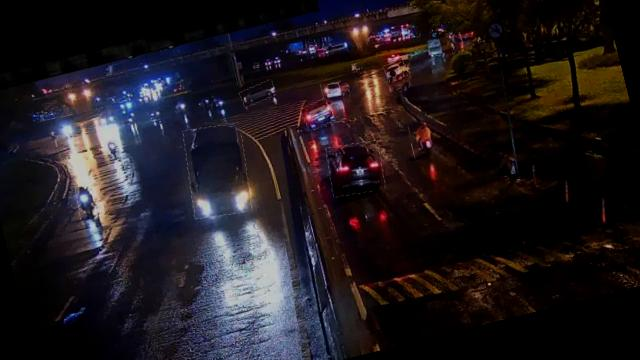Bike: (74, 184, 100, 224), (408, 122, 435, 160)
Car: (322, 136, 388, 200), (300, 98, 336, 130), (239, 81, 277, 106), (320, 78, 350, 102), (383, 58, 408, 82)
Truck: (177, 118, 258, 222)
